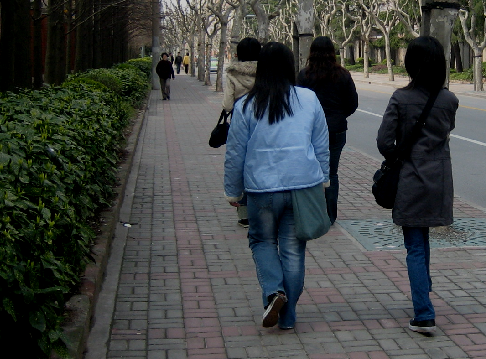pedestrian: (224, 41, 331, 329), (372, 37, 458, 332), (156, 53, 175, 99), (183, 53, 190, 73), (176, 52, 182, 73)
